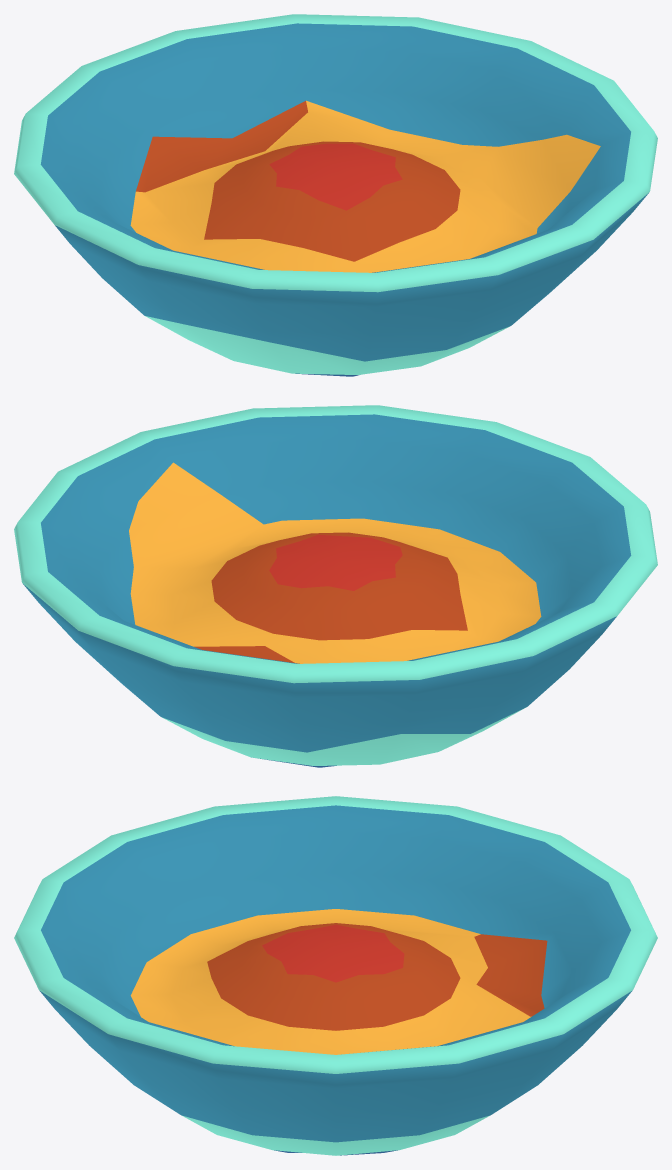
File: bolognese.glb
3 views of the same model, one above another, from view 1: azimuth 30°, elevation 25°; view 2: azimuth 150°, elevation 25°; view 3: azimuth 270°, elevation 25° (orthographic).
Visible parts, largest first — view 1: Cylinder.004; view 2: Cylinder.004; view 3: Cylinder.004.
Boxes of the visible parts, box(x1,y1,x2,y2) form: Cylinder.004: box(14, 14, 657, 376); Cylinder.004: box(14, 405, 657, 767); Cylinder.004: box(14, 796, 657, 1155).
Bounding box in the file's own units: 4.9 × 1.53 × 4.9.
Materials: 1 (1 with a texture image).
